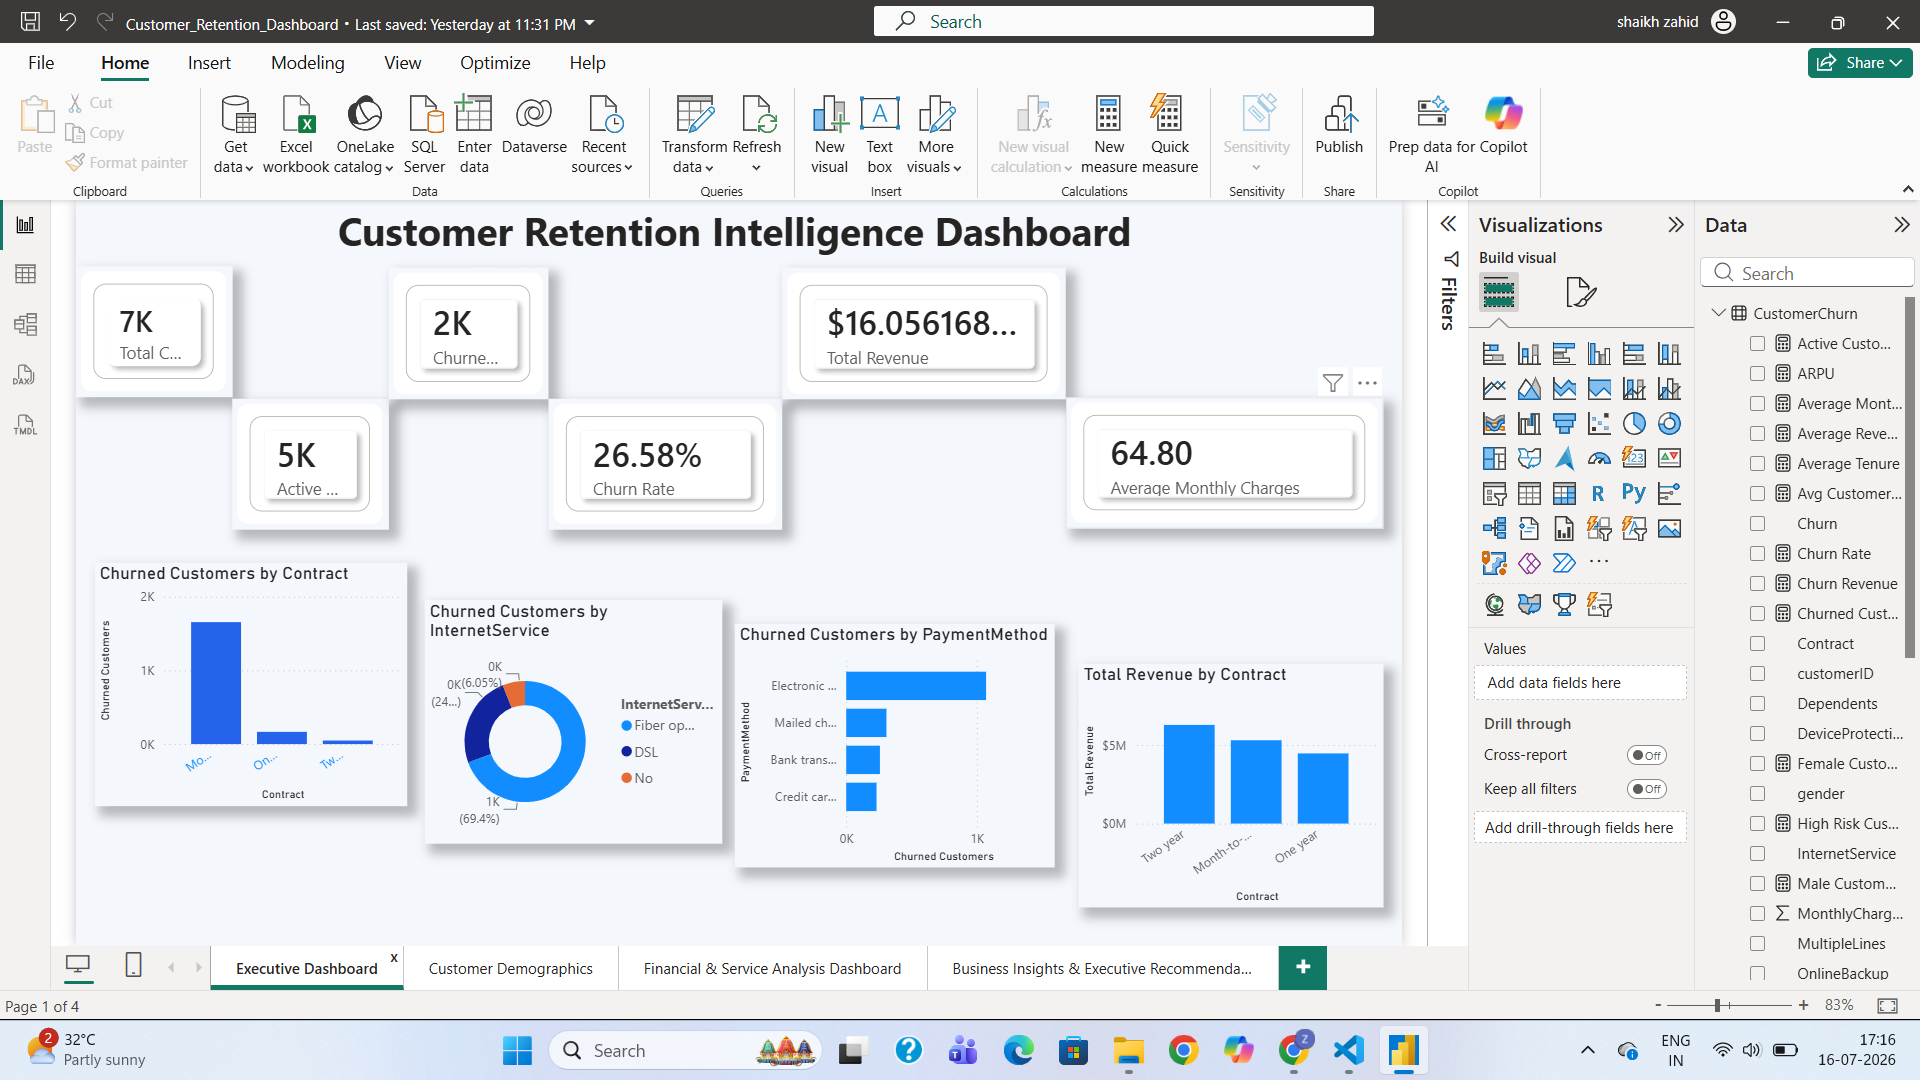

The page's visual inventory and layout, read from the dashboard file:
{"tool":"powerbi","page":{"name":"Executive Dashboard","canvas":[1280,720],"ordinal":0},"visuals":[{"type":"textbox","box":[9.8,0,1252.2,64.8],"z":0},{"type":"clusteredColumnChart","fields":{"Category":["CustomerChurn.Contract"],"Y":["CustomerChurn.Churned Customers"]},"box":[18.1,349.9,301.6,235.3],"z":1000},{"type":"donutChart","fields":{"Category":["CustomerChurn.InternetService"],"Y":["CustomerChurn.Churned Customers"]},"box":[336.6,386.1,287.1,235.3],"z":2000},{"type":"clusteredBarChart","fields":{"Category":["CustomerChurn.PaymentMethod"],"Y":["CustomerChurn.Churned Customers"]},"box":[635.8,409,308.8,235.3],"z":3000},{"type":"clusteredColumnChart","fields":{"Category":["CustomerChurn.Contract"],"Y":["CustomerChurn.Total Revenue"]},"box":[967.6,447.6,294.4,235.3],"z":4000},{"type":"cardVisual","fields":{"Data":["CustomerChurn.Total Customers"]},"box":[0,63.9,150.8,126.7],"z":5000},{"type":"cardVisual","fields":{"Data":["CustomerChurn.Active Customers"]},"box":[150.8,191.8,150.8,126.7],"z":6000},{"type":"cardVisual","fields":{"Data":["CustomerChurn.Churned Customers"]},"box":[302,64.8,154.1,127.2],"z":7000},{"type":"cardVisual","fields":{"Data":["CustomerChurn.Churn Rate"]},"box":[456,191.8,225.6,126.7],"z":8000},{"type":"cardVisual","fields":{"Data":["CustomerChurn.Total Revenue"]},"box":[681.1,64.8,273.9,127.2],"z":9000},{"type":"cardVisual","fields":{"Data":["CustomerChurn.Average Monthly Charges"]},"box":[955.5,190.6,306.4,126.7],"z":10000}]}

Visuals, with their boxes on the page's 1280x720 design canvas (x1, y1, x2, y2). These are canvas units, not pixel positions in the 1920x1080 screenshot, which may show the page scaled, cropped or inside an application window:
textbox: {"x1": 10, "y1": 0, "x2": 1262, "y2": 65}
clusteredColumnChart - CustomerChurn.Contract x CustomerChurn.Churned Customers: {"x1": 18, "y1": 350, "x2": 320, "y2": 585}
donutChart - CustomerChurn.InternetService x CustomerChurn.Churned Customers: {"x1": 337, "y1": 386, "x2": 624, "y2": 621}
clusteredBarChart - CustomerChurn.PaymentMethod x CustomerChurn.Churned Customers: {"x1": 636, "y1": 409, "x2": 945, "y2": 644}
clusteredColumnChart - CustomerChurn.Contract x CustomerChurn.Total Revenue: {"x1": 968, "y1": 448, "x2": 1262, "y2": 683}
cardVisual - CustomerChurn.Total Customers: {"x1": 0, "y1": 64, "x2": 151, "y2": 191}
cardVisual - CustomerChurn.Active Customers: {"x1": 151, "y1": 192, "x2": 302, "y2": 318}
cardVisual - CustomerChurn.Churned Customers: {"x1": 302, "y1": 65, "x2": 456, "y2": 192}
cardVisual - CustomerChurn.Churn Rate: {"x1": 456, "y1": 192, "x2": 682, "y2": 318}
cardVisual - CustomerChurn.Total Revenue: {"x1": 681, "y1": 65, "x2": 955, "y2": 192}
cardVisual - CustomerChurn.Average Monthly Charges: {"x1": 956, "y1": 191, "x2": 1262, "y2": 317}
